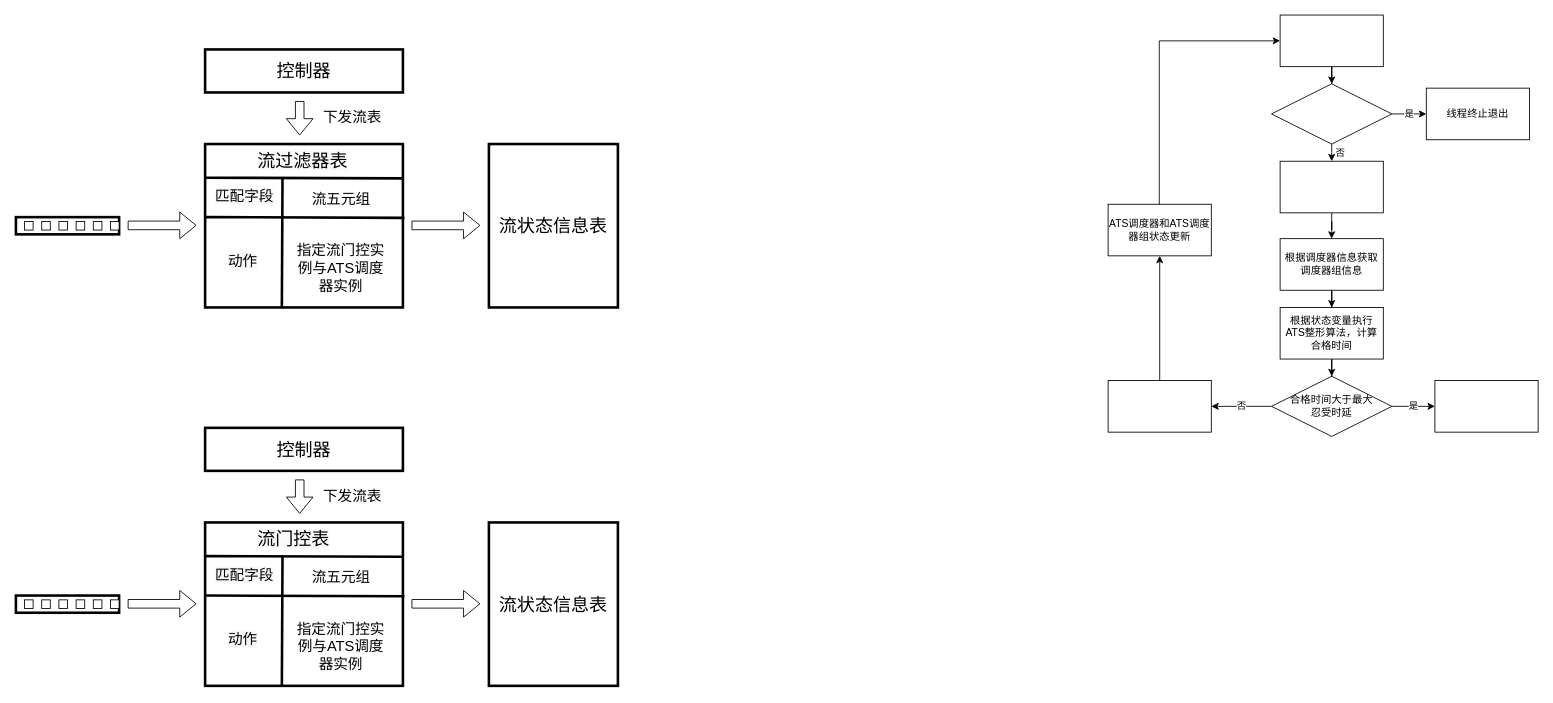
The diagram is 1553 pixels wide and 703 high, and some of its shapes have lost their labels. Here are the shapes that lost their labels. From the top down, the centre of each, then its label:
At [1331,40]: "获取帧的".
At [1331,113]: "数据帧为空".
At [1331,186]: "根据端口+调度器ID获取调度器信息".
At [1159,406]: "将数据帧传入output_buffer".
At [1486,406]: "丢弃帧".
